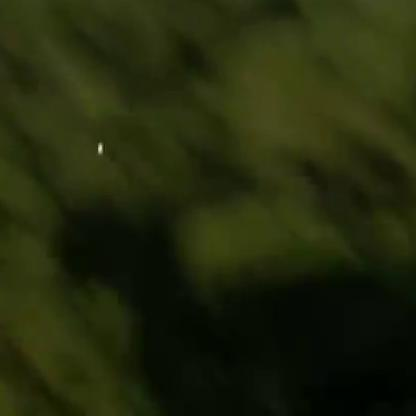golfball: (96, 137, 103, 150)
